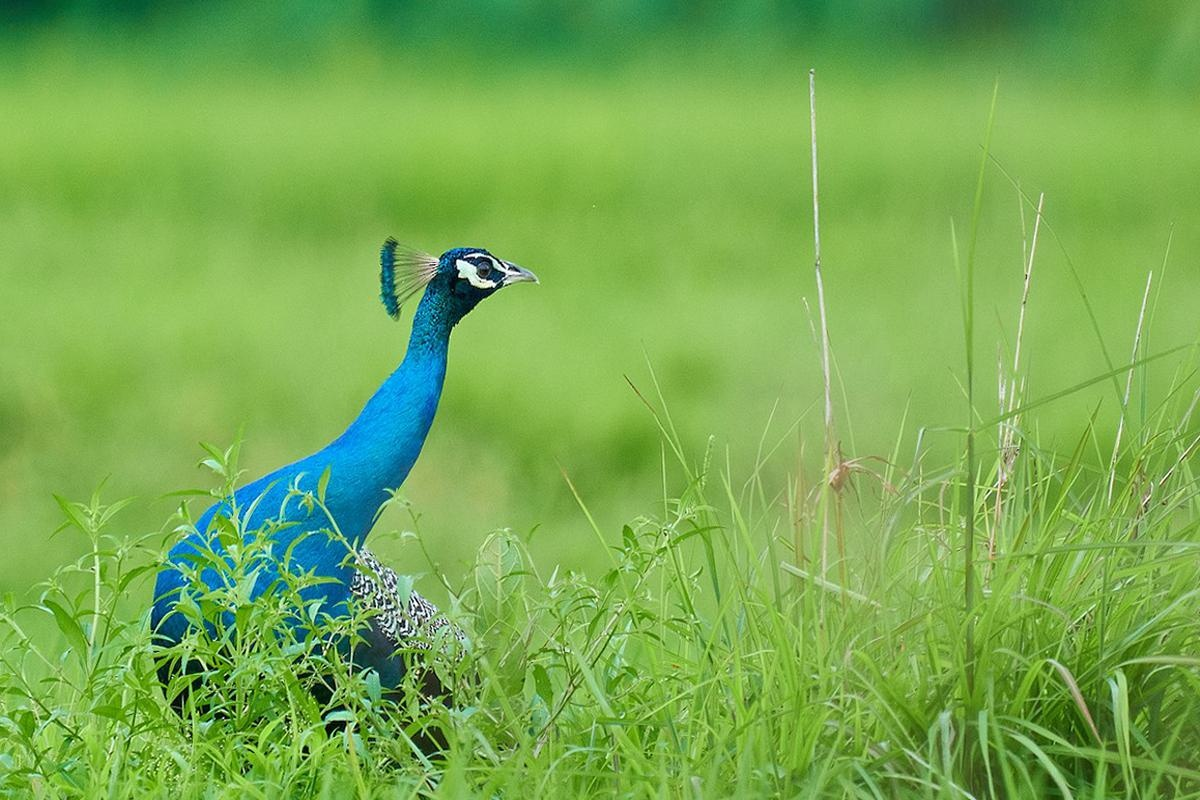peacock: (128, 198, 567, 786)
